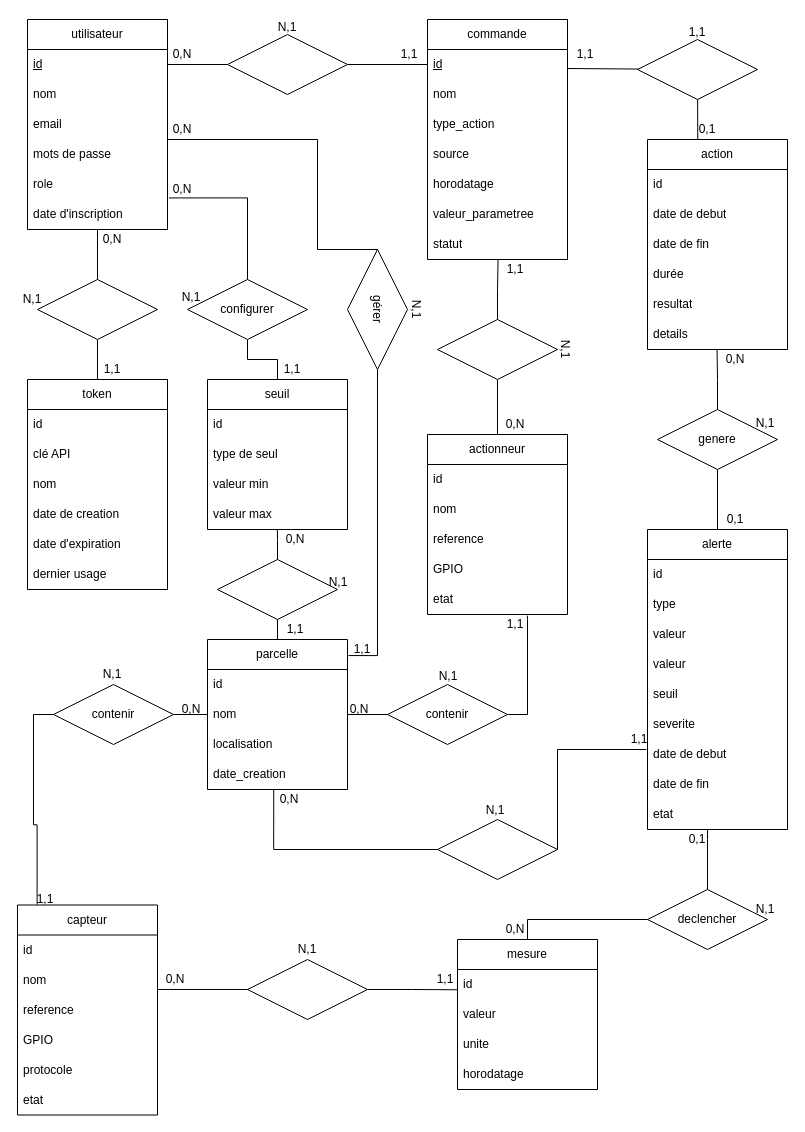
This 805x1132 diagram has some shape labels left out. Each missing label, with the centre of its shape:
"concerne" belongs at point (497, 849).
"etre defini pour" belongs at point (277, 589).
"posseder" belongs at point (97, 309).
"prelever" belongs at point (307, 989).
"provoquer" belongs at point (697, 69).
"recevoir" belongs at point (497, 349).
"soumettre" belongs at point (287, 64).
